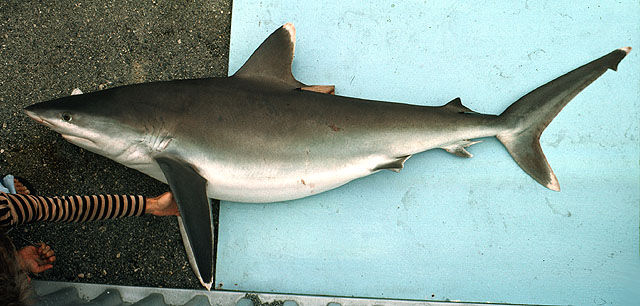fish: (24, 25, 631, 290)
